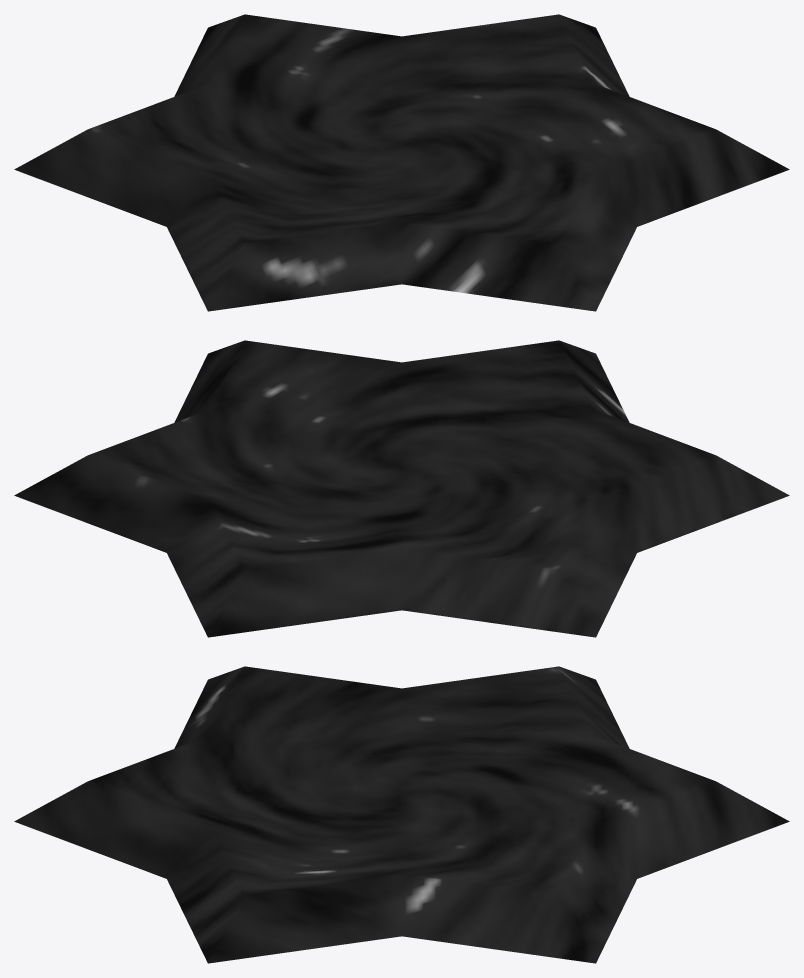
The model's file is blackhole.fbx.
3 renders of one model, top to bottom at view 1: azimuth 30°, elevation 25°; view 2: azimuth 150°, elevation 25°; view 3: azimuth 270°, elevation 25°, orthographic.
Visible parts, largest first — view 1: Cylinder.1; view 2: Cylinder.1; view 3: Cylinder.1.
Part boxes in pixels (box(x1,y1,x2,y2)): Cylinder.1: box(14, 14, 789, 311); Cylinder.1: box(14, 340, 789, 637); Cylinder.1: box(14, 666, 789, 963).
Bounding box in the file's own units: 364 × 24 × 420.
1 material, 1 textured.
